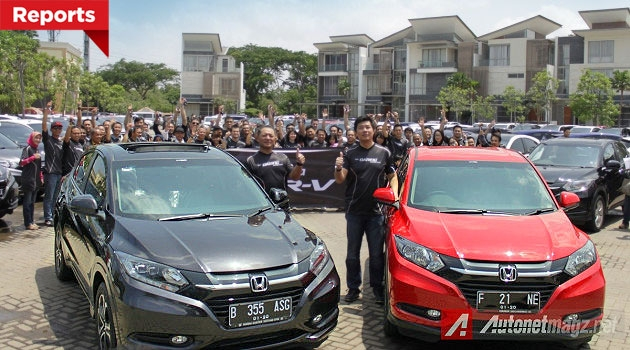plate: (229, 298, 292, 324), (477, 292, 539, 313)
